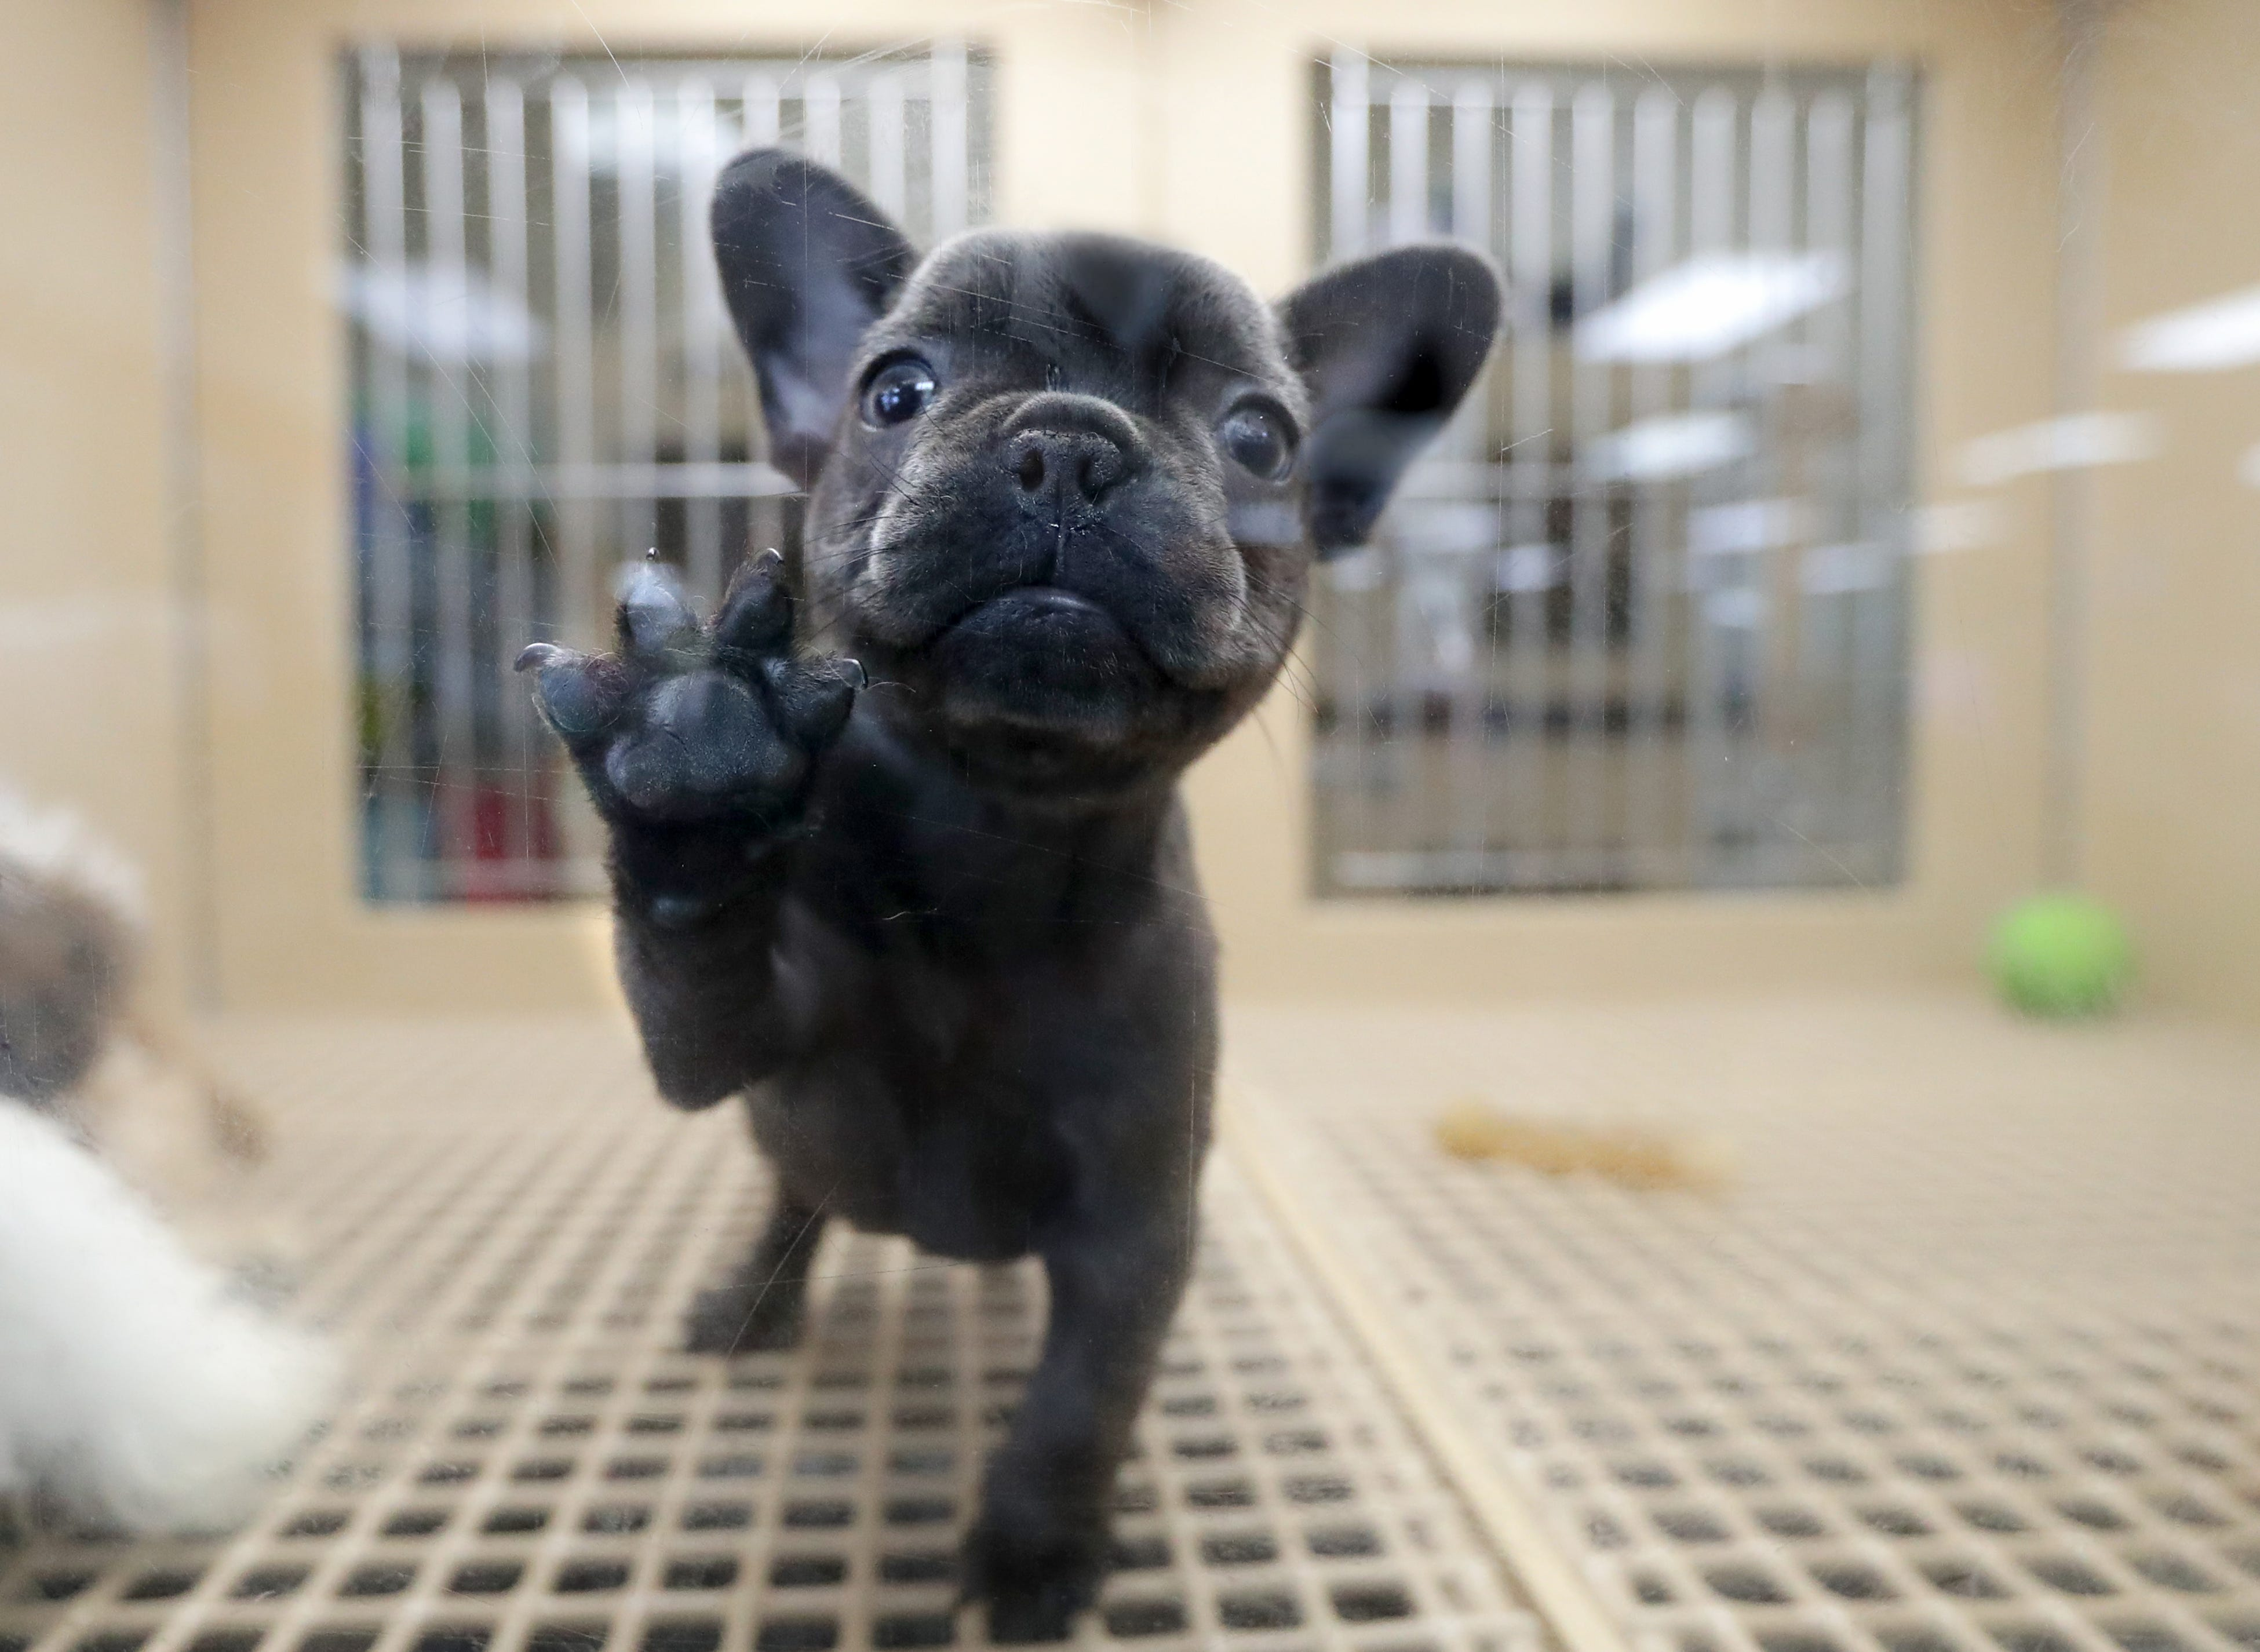dog: (469, 112, 1557, 1609)
